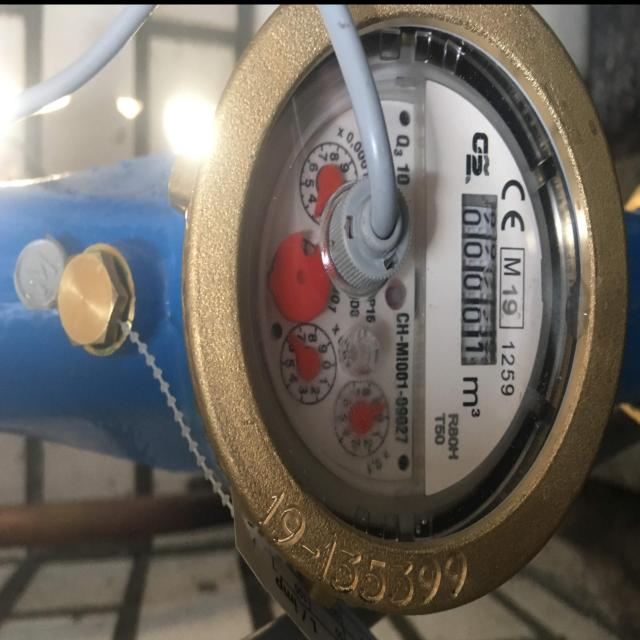gaz_meter: (251, 28, 556, 503)
indication: (462, 193, 498, 369)
